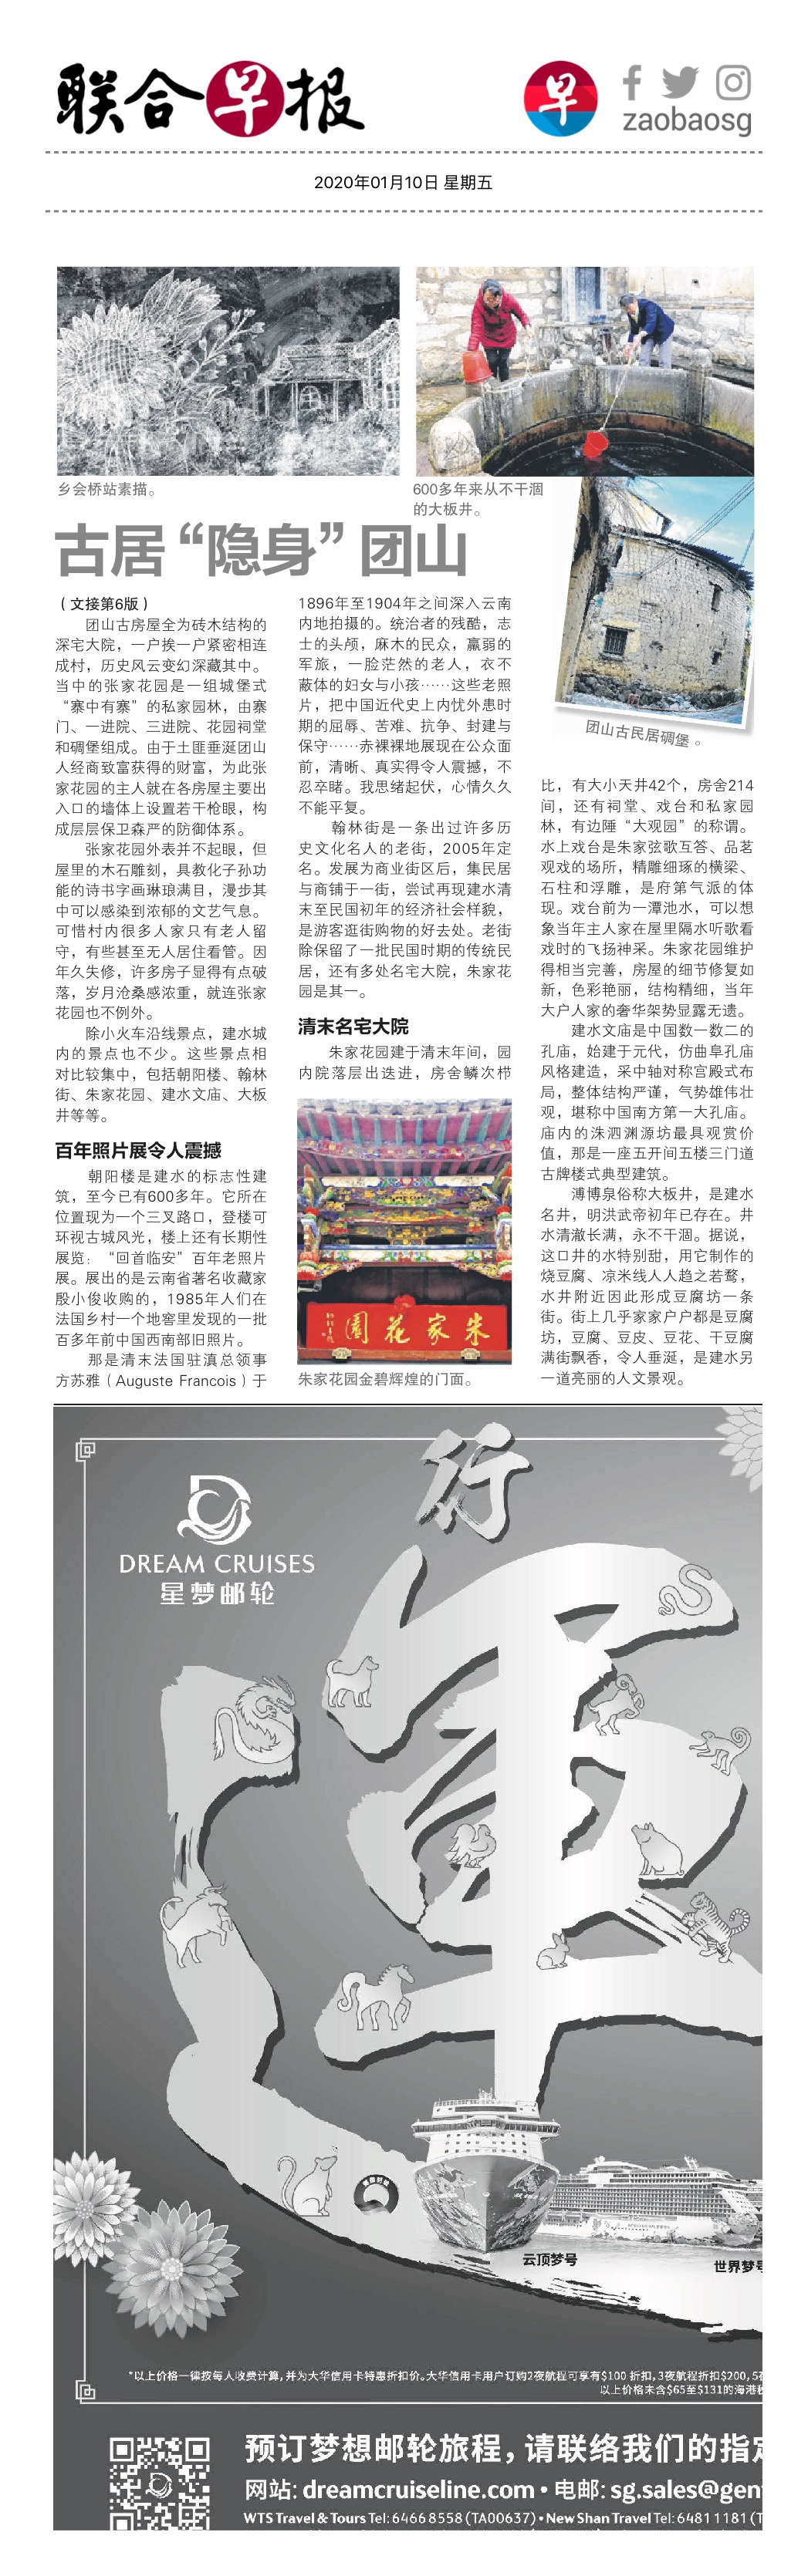heading: (38, 509, 489, 591)
